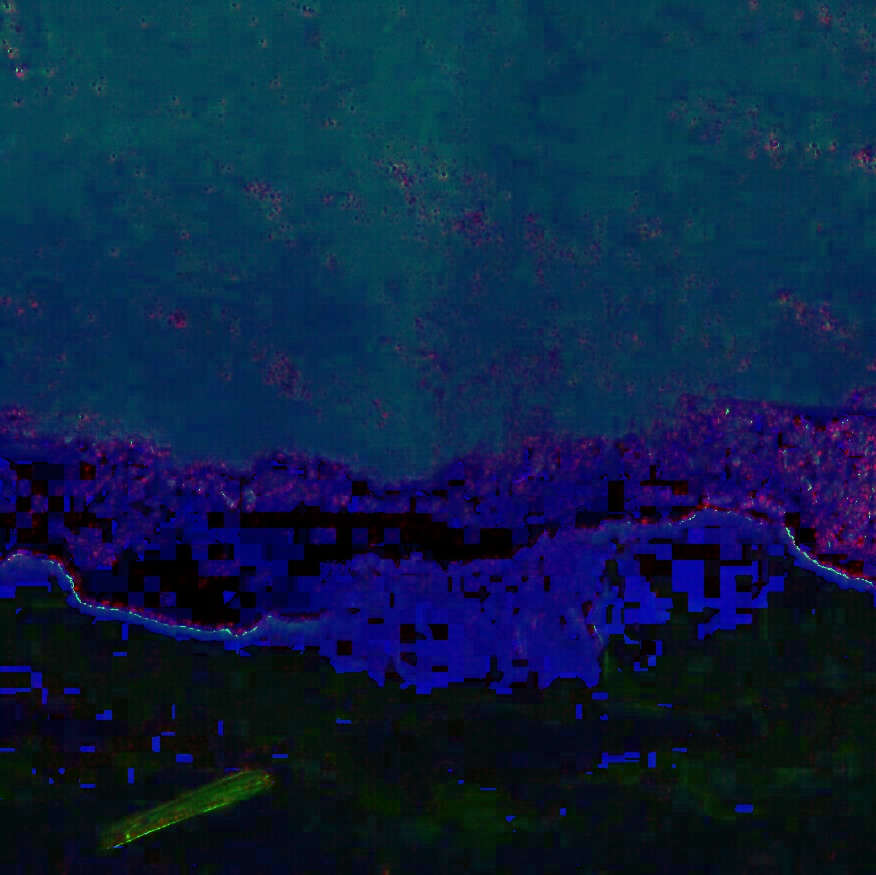rip_current: (377, 103, 608, 524)
